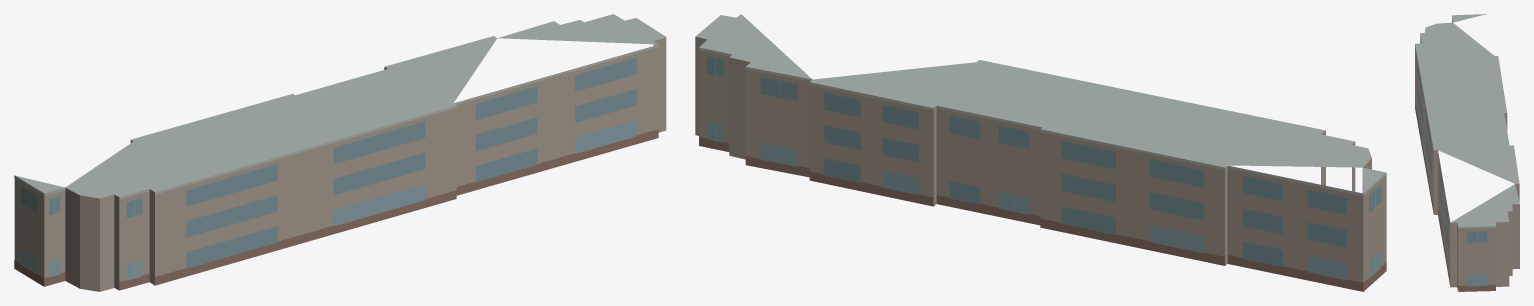
Rendered from survey-upis-32651188.glb.
The picture shows the model from 3 angles, left to right: view 1: azimuth 30°, elevation 25°; view 2: azimuth 150°, elevation 25°; view 3: azimuth 270°, elevation 25°; orthographic projection. The views are drawn at different scales.
Parts seen in each view (by area): view 1: survey-upis-32651188.tmp; view 2: survey-upis-32651188.tmp; view 3: survey-upis-32651188.tmp.
Boxes of the visible parts, x1,y1,x2,y2 form: survey-upis-32651188.tmp: (14, 14, 666, 291); survey-upis-32651188.tmp: (695, 14, 1386, 291); survey-upis-32651188.tmp: (1415, 14, 1519, 291).
Size of the model in its own units: 64.68 by 9.15 by 13.45.
